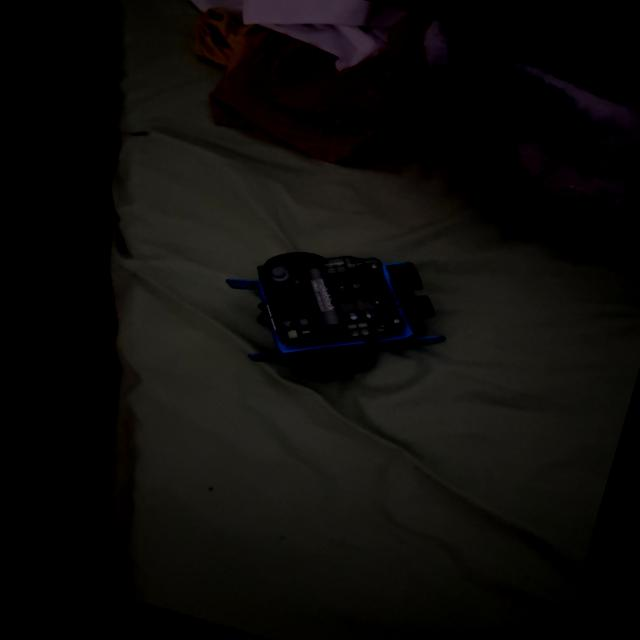mbot-detection: (193, 205, 472, 418)
